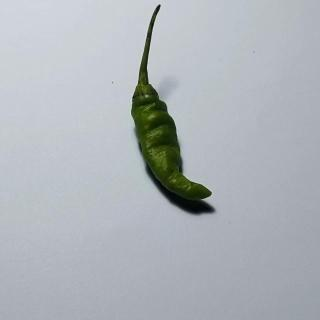Cabai Hijau: (130, 2, 222, 210)
